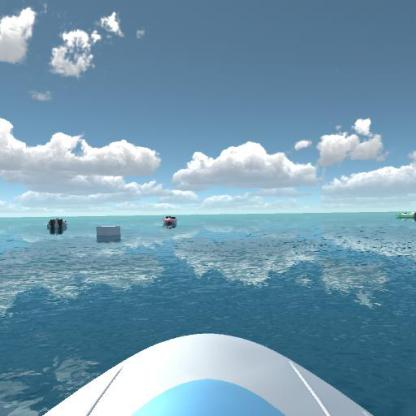usv0: (395, 207, 415, 225)
usv1: (44, 212, 75, 234)
usv3: (159, 209, 180, 231)
